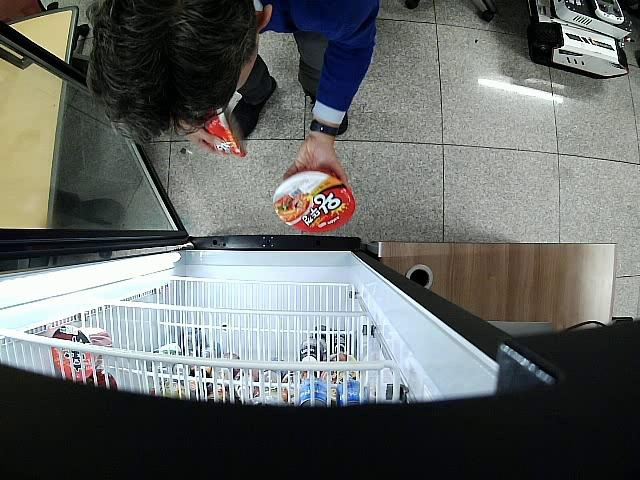00_hand: (282, 140, 348, 190), (189, 126, 225, 157)
10_wangTtukkeong: (272, 168, 355, 233), (205, 108, 246, 158)
